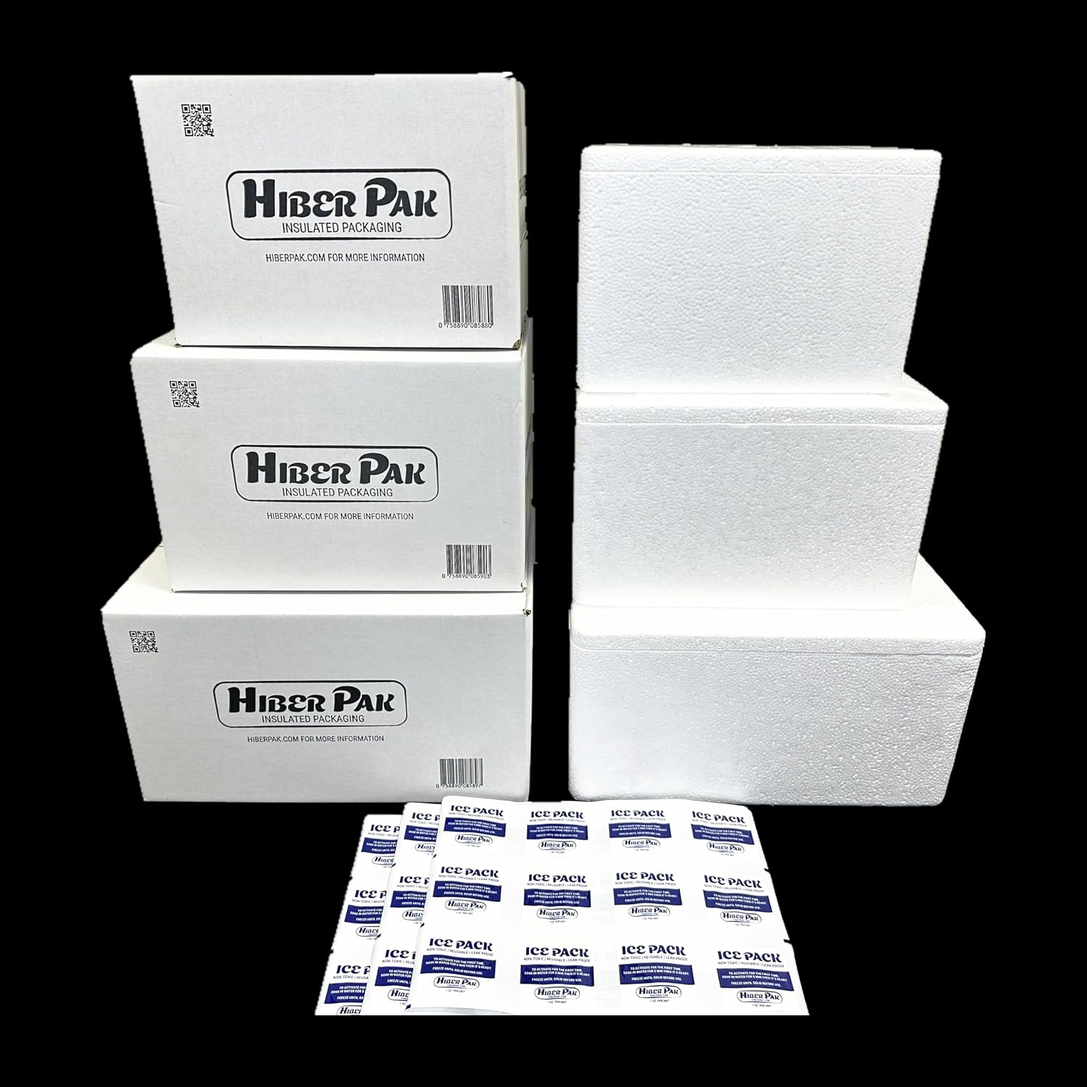Boxes: (570, 146, 984, 805)
